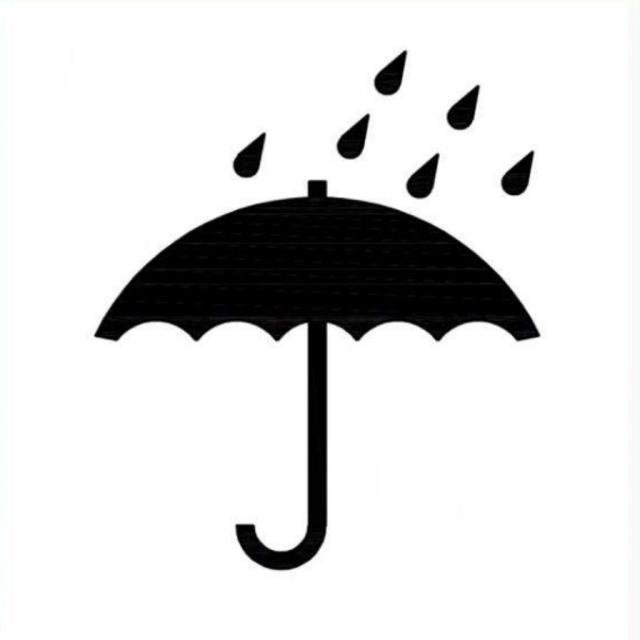Keep Dry: (94, 46, 546, 576)
